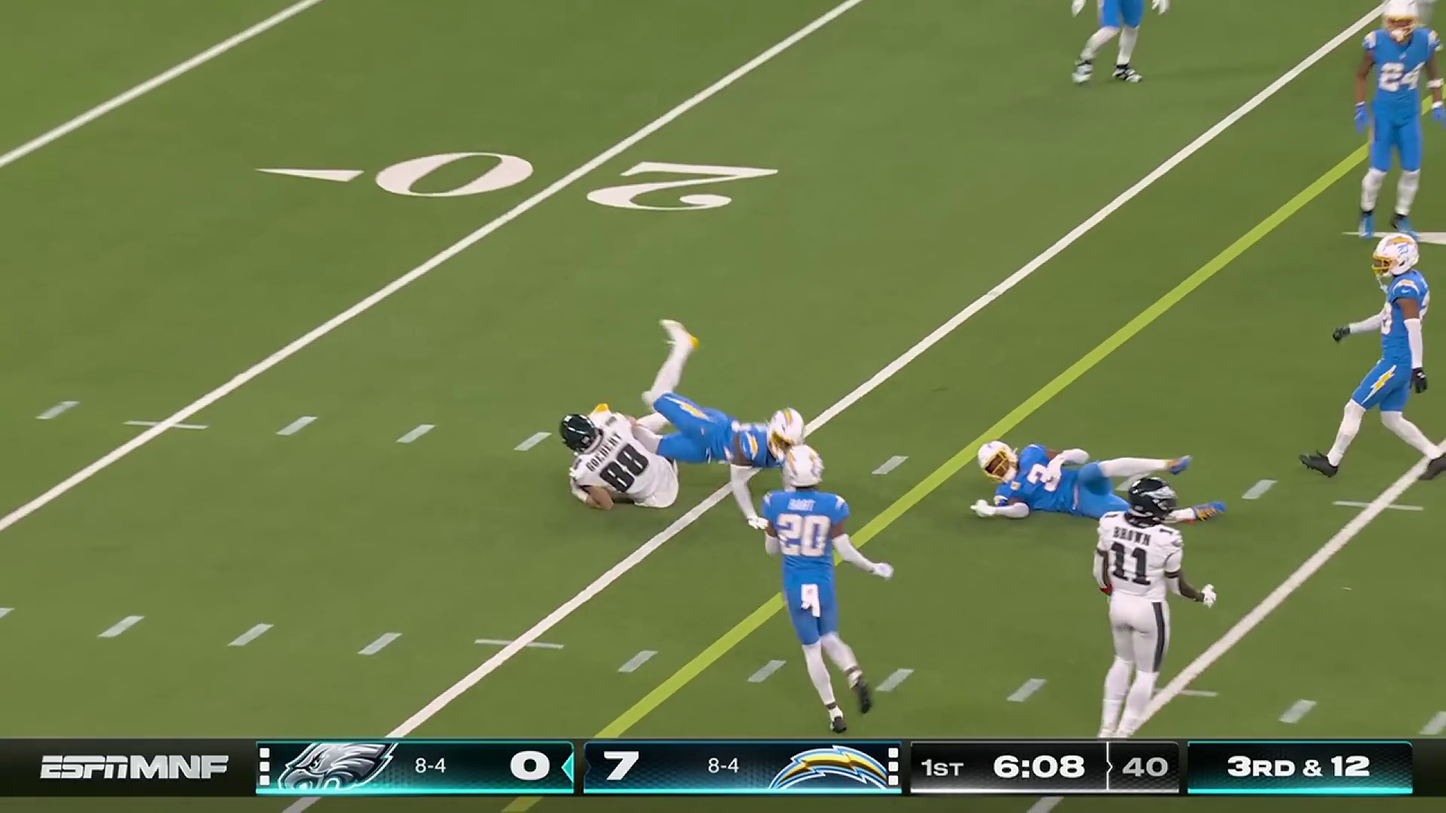player: (1307, 234, 1446, 479), (761, 436, 865, 723), (1089, 483, 1181, 774), (1345, 0, 1446, 238), (646, 324, 775, 493), (548, 385, 662, 519), (969, 447, 1178, 507), (1053, 0, 1173, 101)
